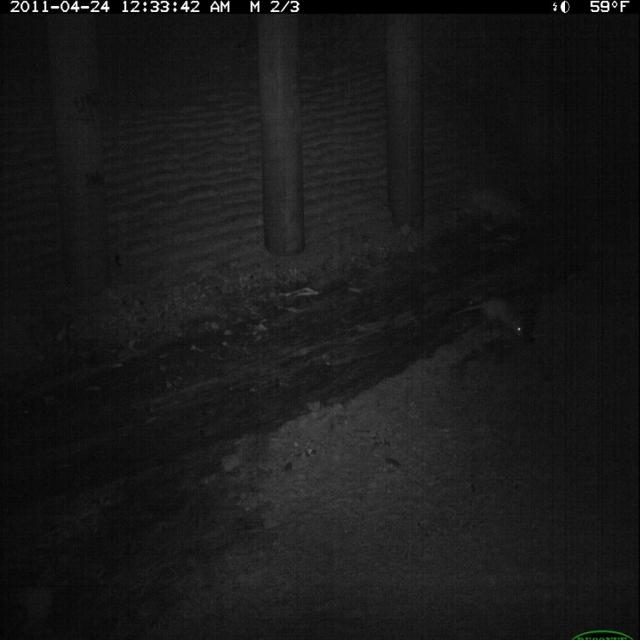opossum: (454, 291, 534, 348)
